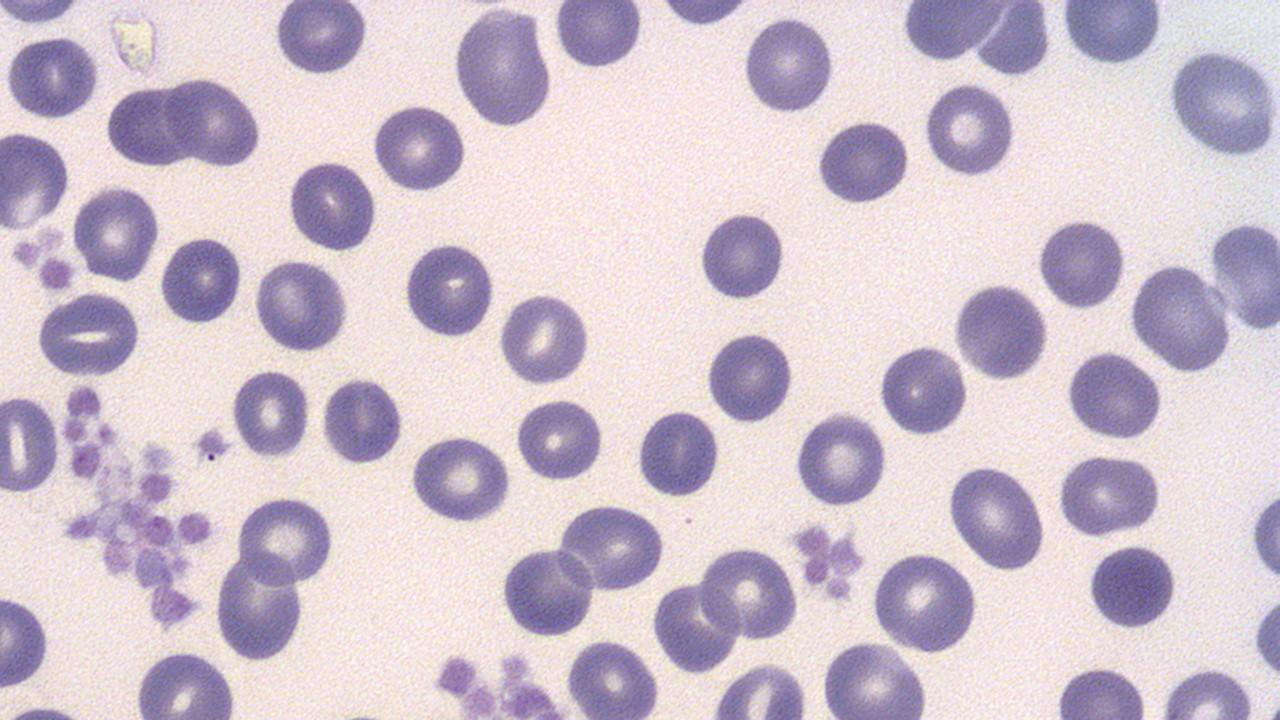Platelets: (790, 520, 832, 558), (191, 426, 231, 464), (65, 382, 101, 420), (801, 556, 832, 590), (824, 573, 854, 603)
RBC: (450, 1, 556, 130), (1167, 44, 1277, 161), (1128, 258, 1234, 376), (944, 460, 1048, 572), (870, 551, 982, 654), (214, 546, 308, 664), (948, 279, 1051, 382), (557, 500, 668, 593), (32, 290, 144, 382), (694, 545, 798, 643), (740, 12, 837, 117), (400, 237, 498, 340), (790, 408, 890, 508), (251, 256, 352, 355), (816, 113, 920, 209), (1061, 348, 1165, 444), (1054, 451, 1166, 540), (234, 492, 338, 587), (407, 430, 513, 523), (921, 78, 1019, 178), (168, 73, 266, 171), (702, 326, 798, 426), (1033, 213, 1129, 313), (498, 542, 596, 639), (496, 289, 594, 386), (288, 154, 383, 254), (876, 338, 970, 438), (649, 576, 742, 677), (369, 100, 468, 193), (2, 32, 102, 124), (71, 182, 160, 285), (816, 638, 930, 718), (696, 204, 787, 303), (634, 402, 722, 503), (1084, 541, 1180, 632), (1207, 215, 1279, 333), (157, 231, 245, 327), (895, 0, 1017, 69), (563, 634, 663, 718), (317, 373, 406, 466), (512, 395, 606, 483), (128, 646, 240, 718), (104, 82, 194, 171), (0, 127, 73, 233), (230, 366, 311, 460), (272, 0, 368, 78), (1059, 1, 1167, 70), (552, 0, 644, 72), (552, 1, 644, 72), (0, 392, 61, 496), (708, 658, 812, 717), (1046, 660, 1154, 716), (1, 581, 53, 695), (1156, 664, 1258, 716), (106, 2, 165, 84), (1248, 460, 1280, 598), (1249, 581, 1279, 700), (646, 0, 762, 29), (0, 0, 86, 27)
